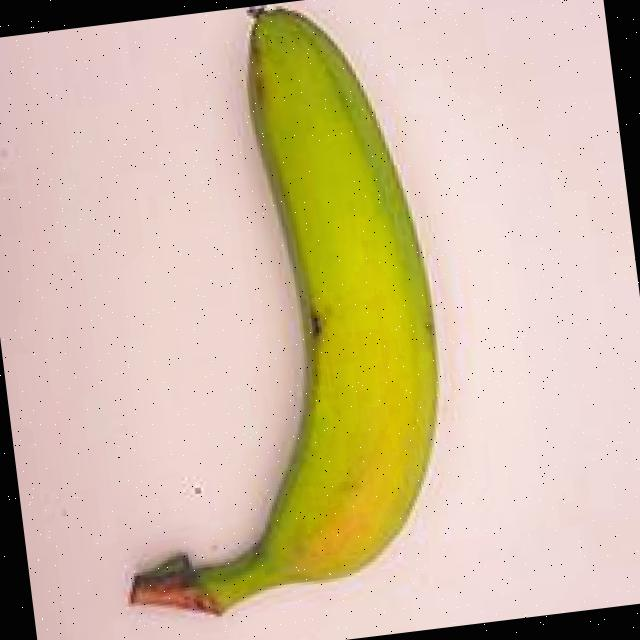Unripe: (48, 0, 495, 625)
